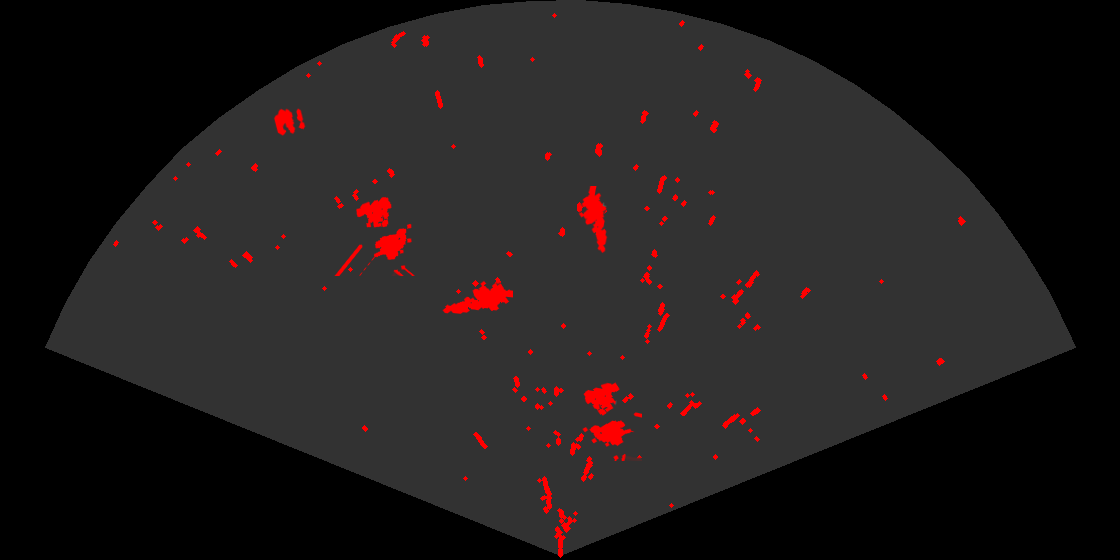ball: (272, 107, 307, 137)
cage: (334, 195, 416, 276), (581, 381, 642, 461)
frogman: (441, 279, 513, 315), (577, 186, 609, 254)
